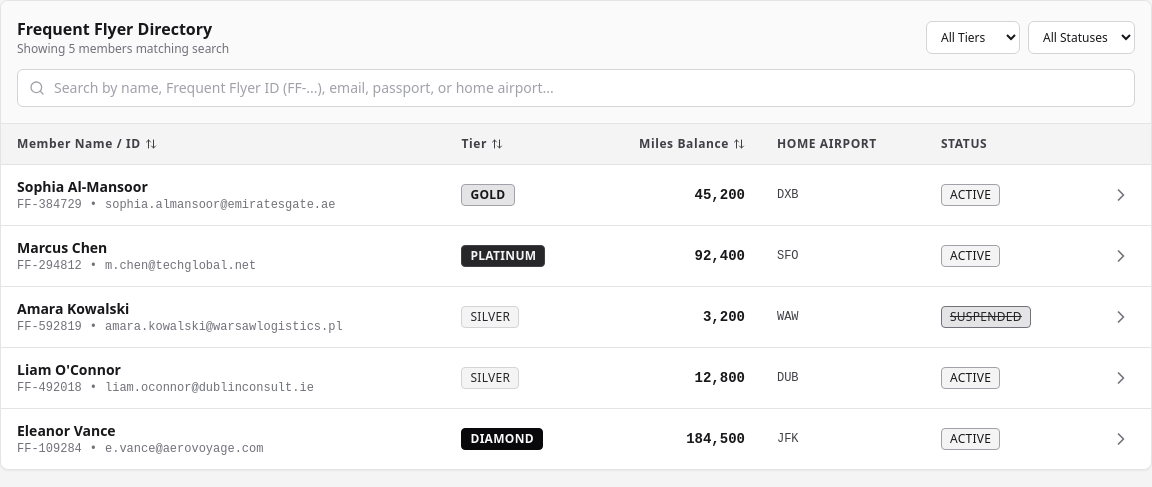
Test: MemberList Component (Agile User Stories & Edge Cases) › filters member roster dynamically when user types in search input
Type "Marcus" into the field named "search frequent flyer records by name, id, or email" at x=576, y=88, box left=17, top=69, right=1135, bottom=107
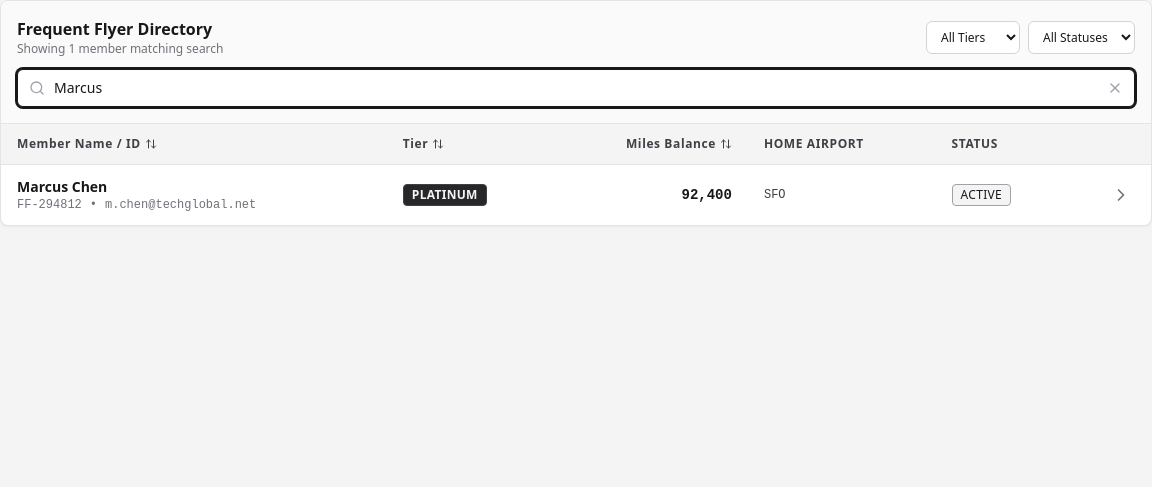
expect the text "Marcus Chen" is shown: met, box left=17, top=177, right=107, bottom=196
expect the text "Eleanor Vance" is gone: met
